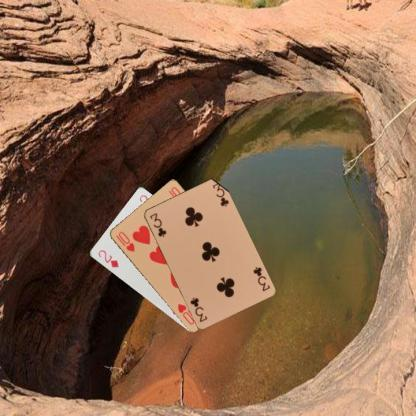10h: (113, 229, 136, 254)
2d: (96, 247, 120, 269)
3c: (250, 263, 271, 292), (147, 210, 168, 238)
